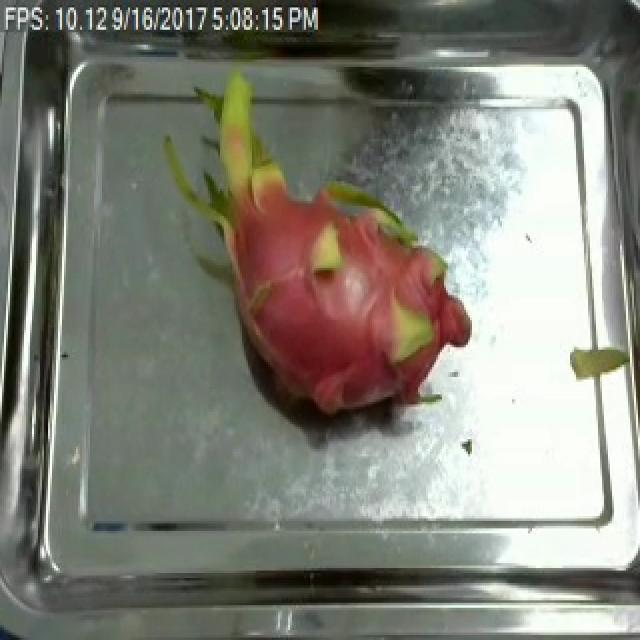fruit: (144, 62, 488, 451)
